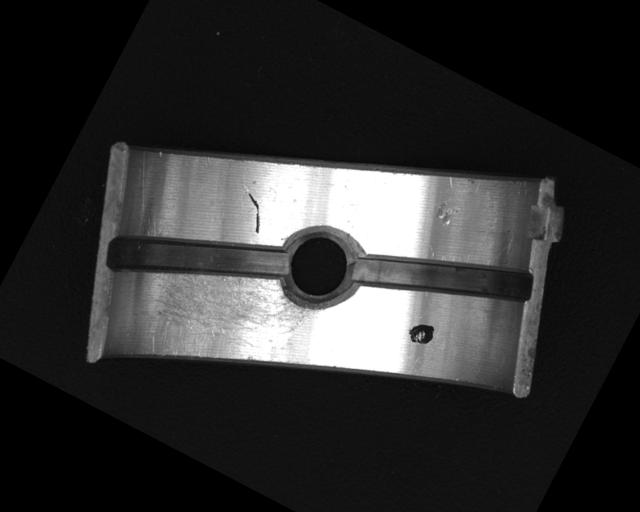blot: (403, 316, 438, 350)
bruise: (428, 195, 464, 230)
gap: (100, 177, 297, 342), (350, 203, 537, 355)
hole: (266, 215, 371, 321)
nick: (231, 190, 273, 236)
scratch: (126, 227, 322, 412)
